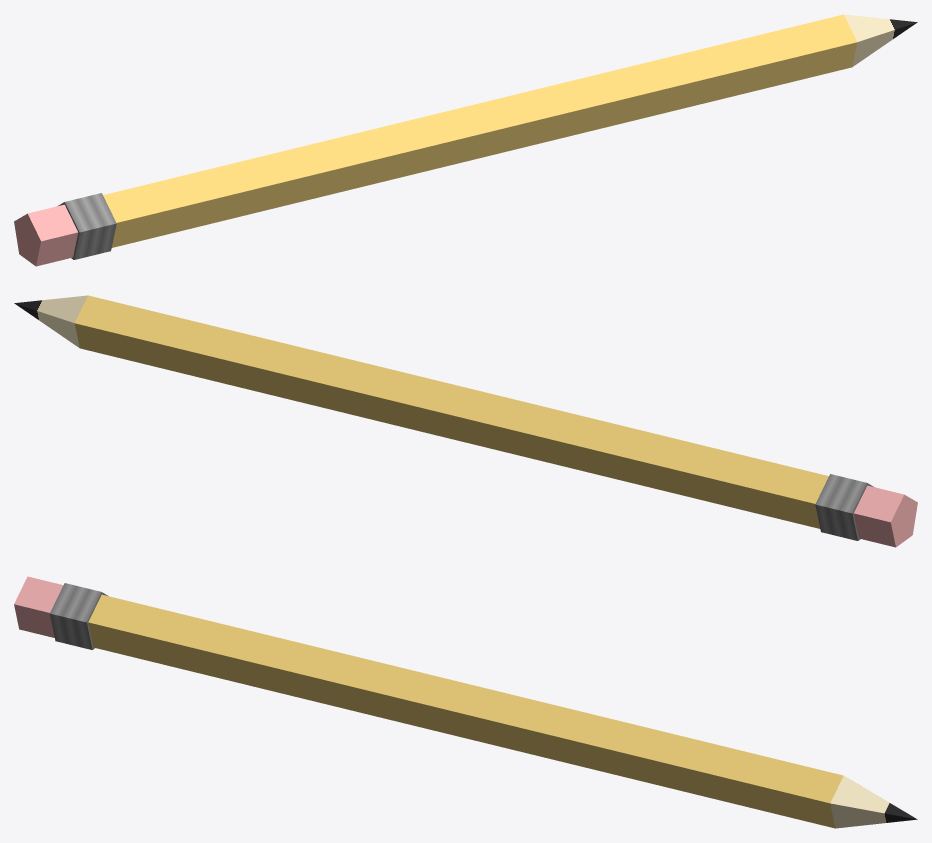
File: low_poly_pencil.fbx
3 views of the same model, one above another, from view 1: azimuth 30°, elevation 25°; view 2: azimuth 150°, elevation 25°; view 3: azimuth 330°, elevation 25° (orthographic).
Visible parts, largest first — view 1: Cylinder; view 2: Cylinder; view 3: Cylinder.
Part boxes in pixels (x1,y1,x2,y2): Cylinder: [14, 14, 917, 266]; Cylinder: [14, 295, 917, 547]; Cylinder: [14, 576, 917, 828].
Bounding box in the file's own units: 360 × 19.9 × 20.92.
